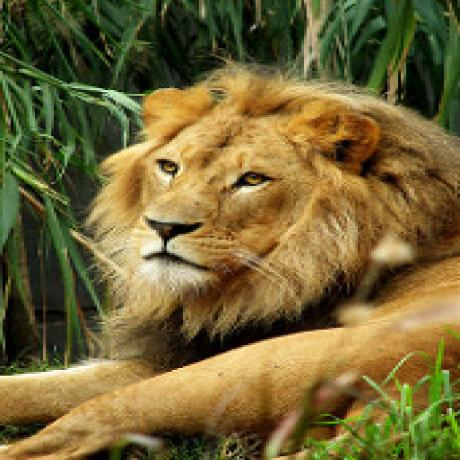Lion: (0, 62, 460, 458)
